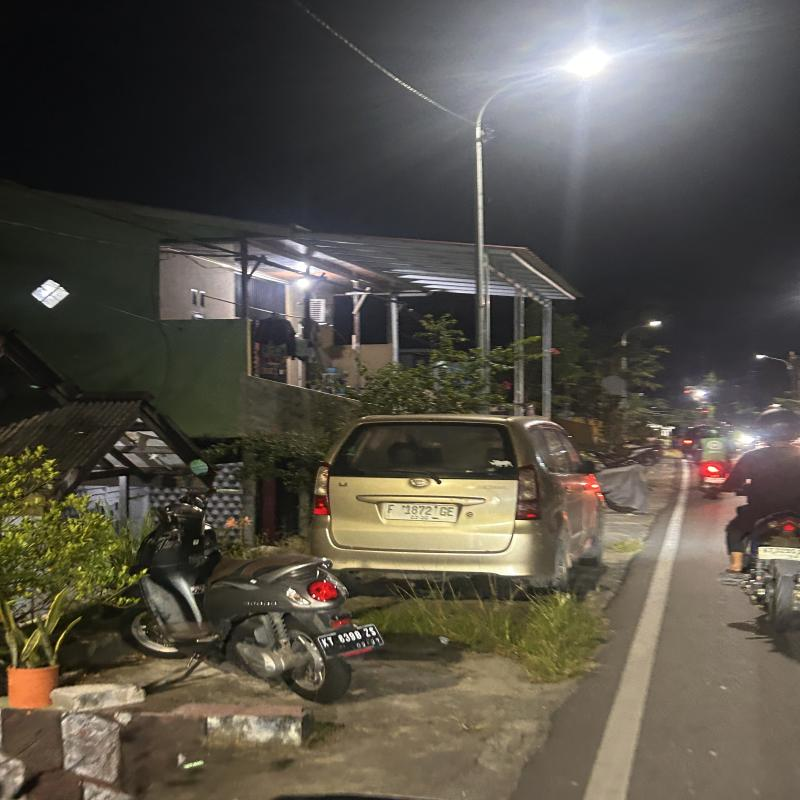license plate on a car: (373, 494, 478, 534)
